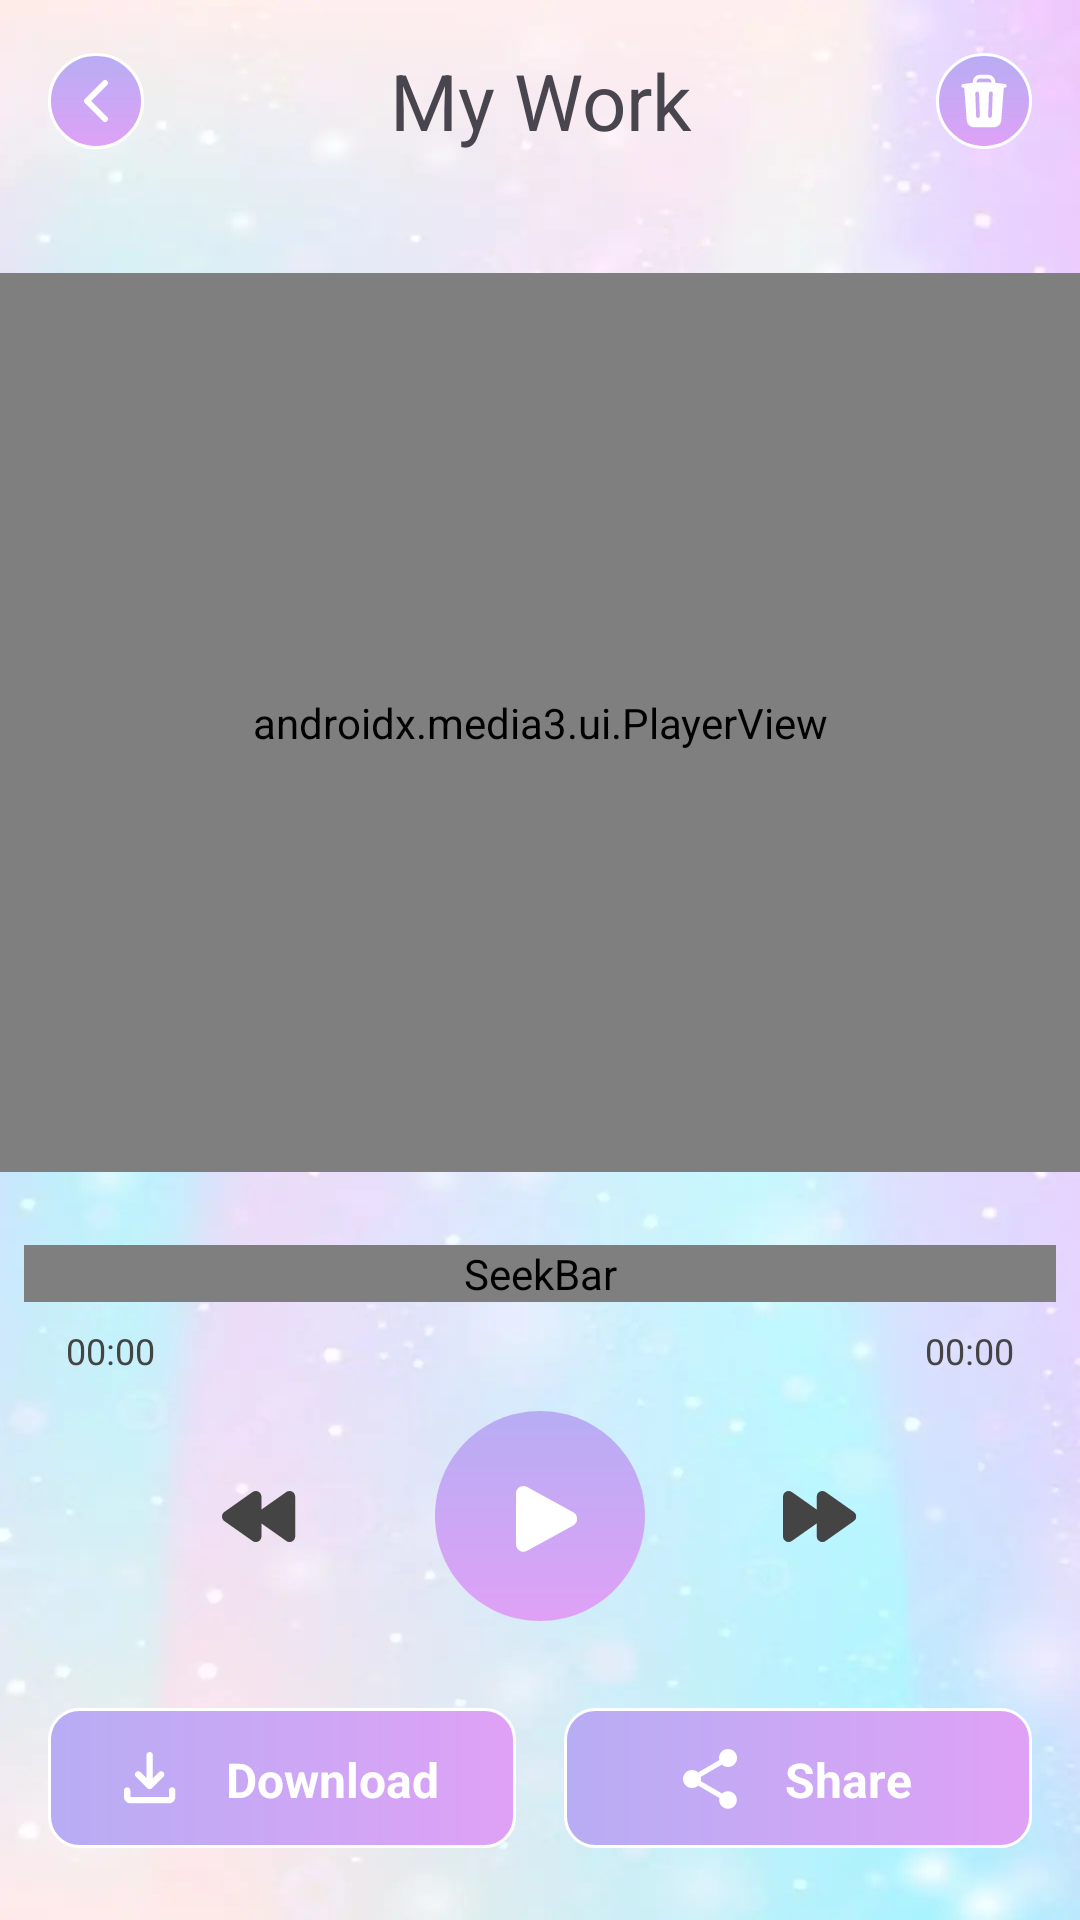

Icon bounding boxes for this 1080px×1920px phone screenshot, format Rect(x1, y1, x2, y2):
arrow back: Rect(51, 56, 141, 146)
circle recycle bin: Rect(936, 53, 1032, 149)
next: Rect(783, 1491, 856, 1542)
previous: Rect(222, 1491, 296, 1542)
